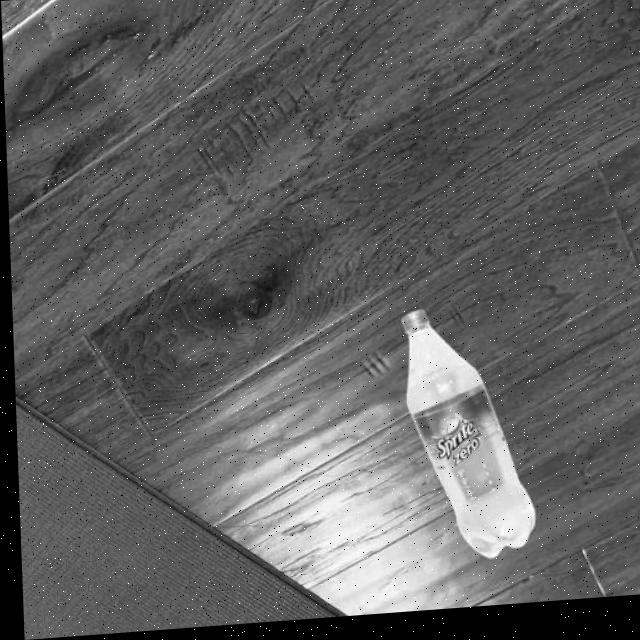bottle: (396, 309, 533, 573)
